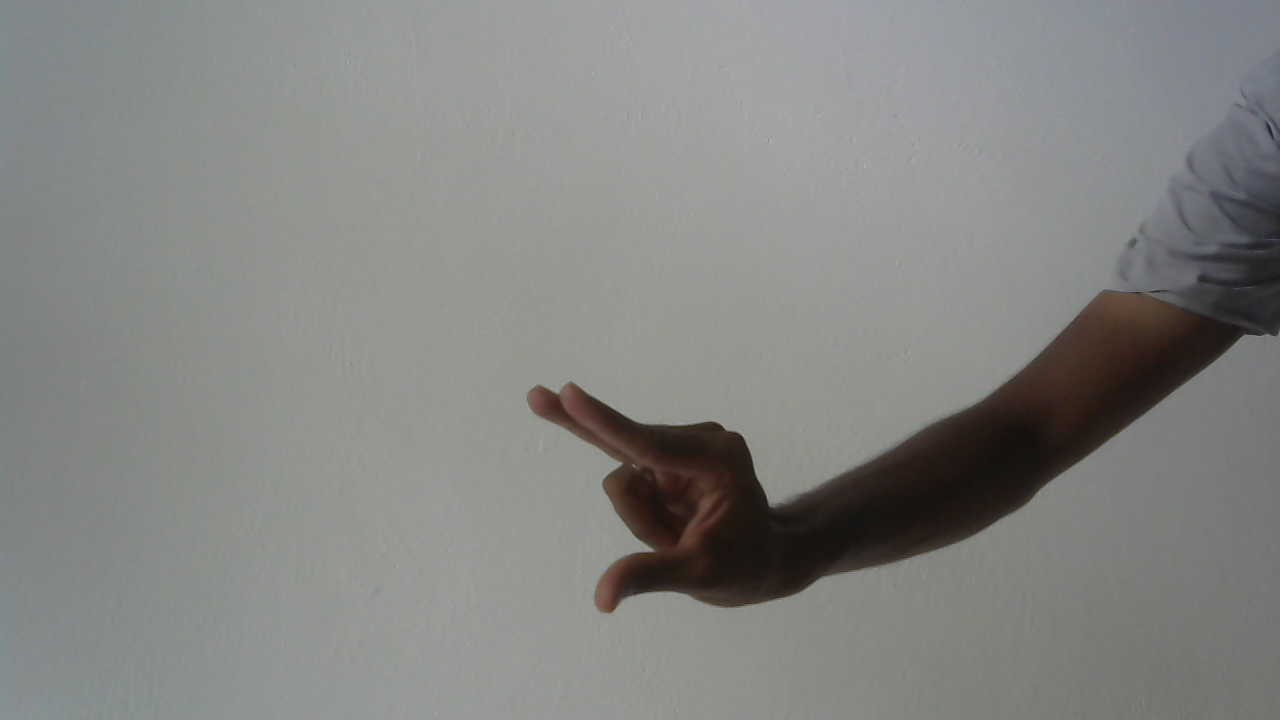no: (508, 364, 792, 651)
